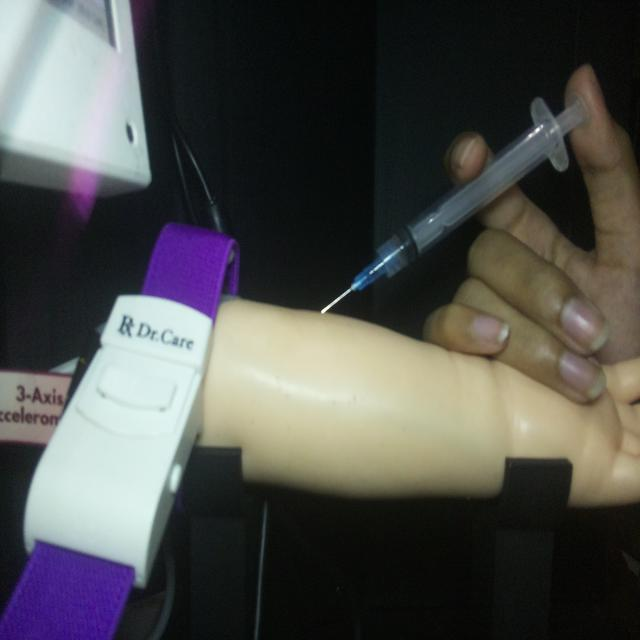28 degrees: (318, 90, 590, 316)
